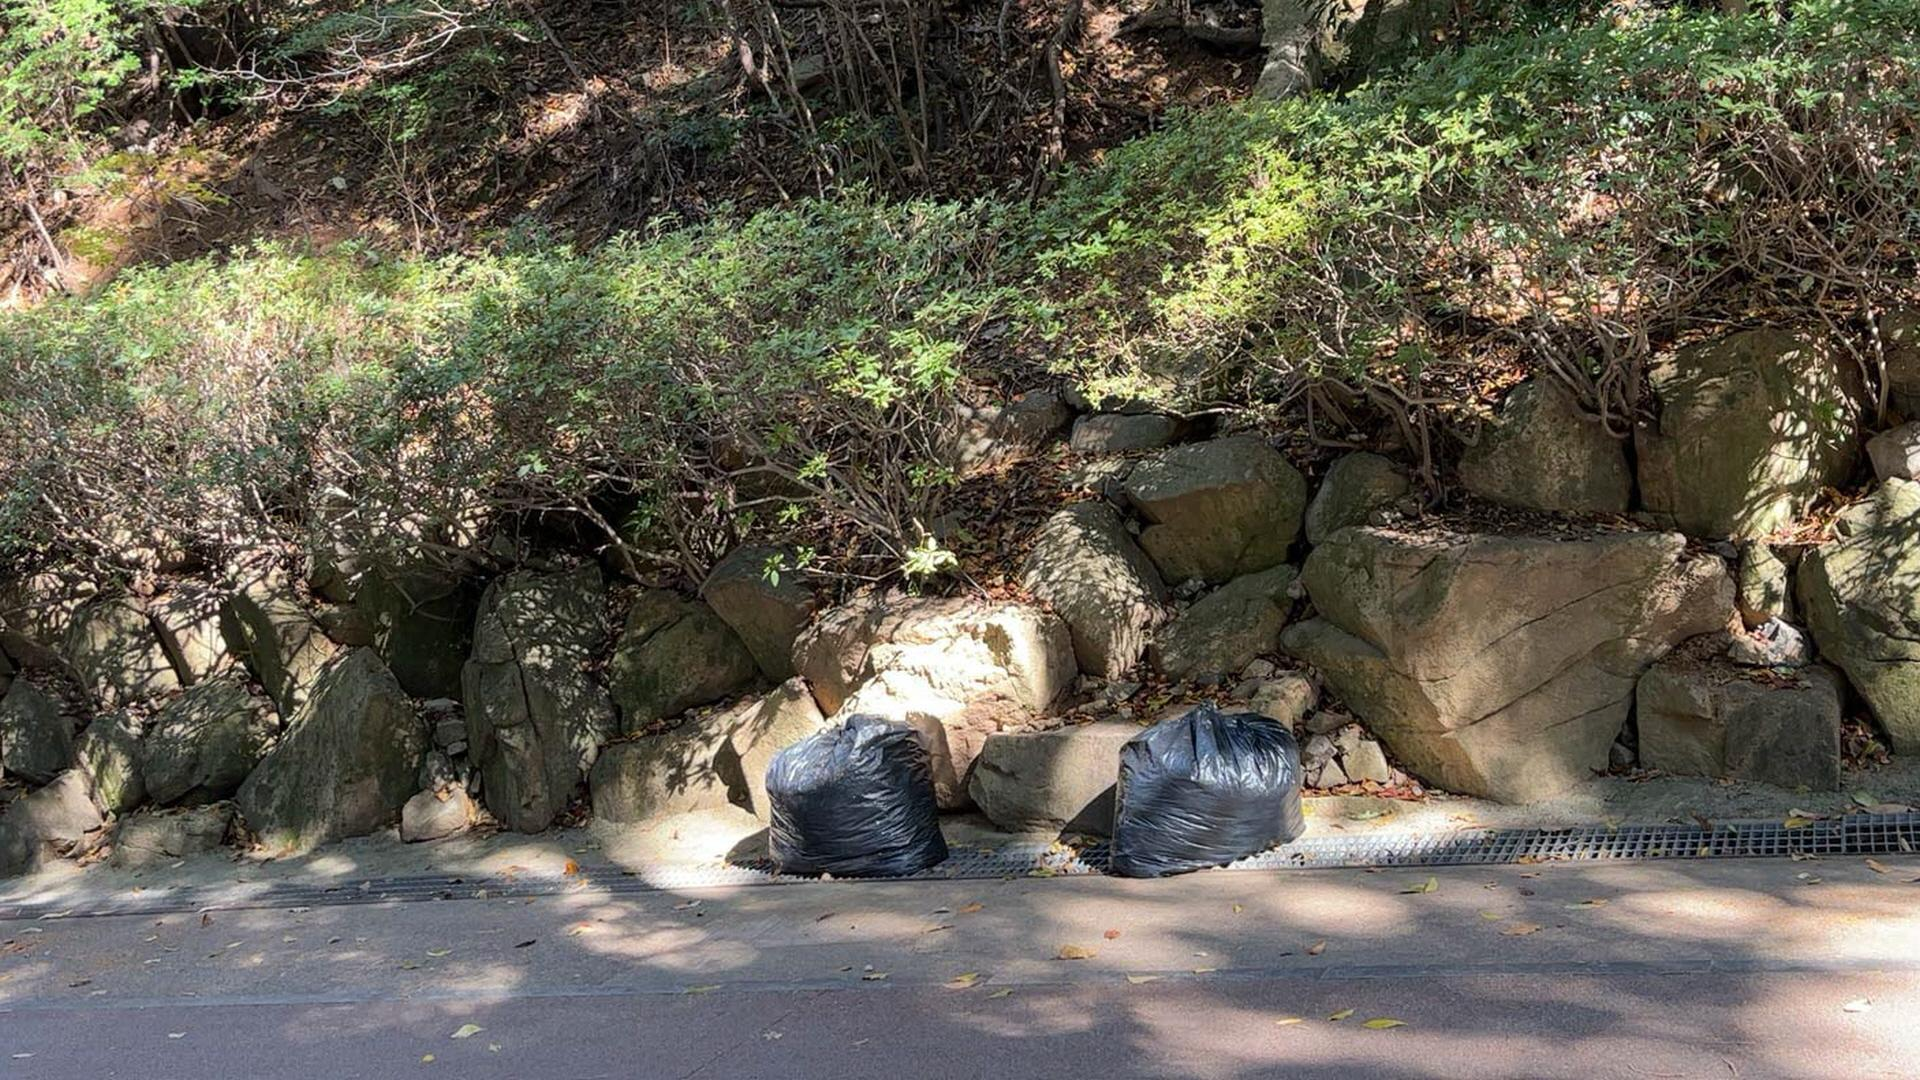black_bag: (1098, 703, 1313, 882), (746, 711, 959, 882)
